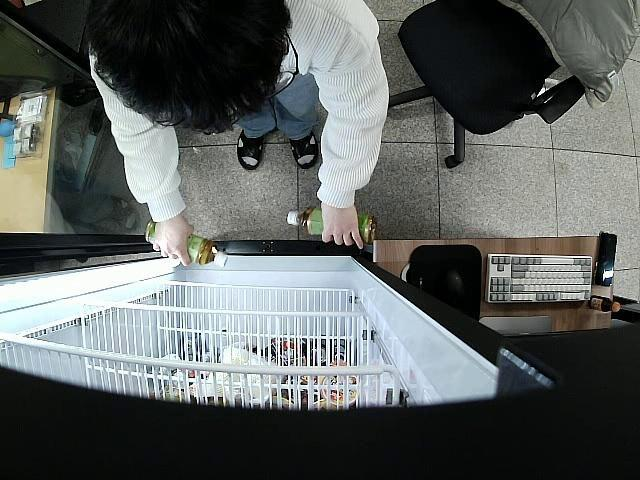19_17cha: (144, 222, 230, 272), (288, 205, 378, 248)
